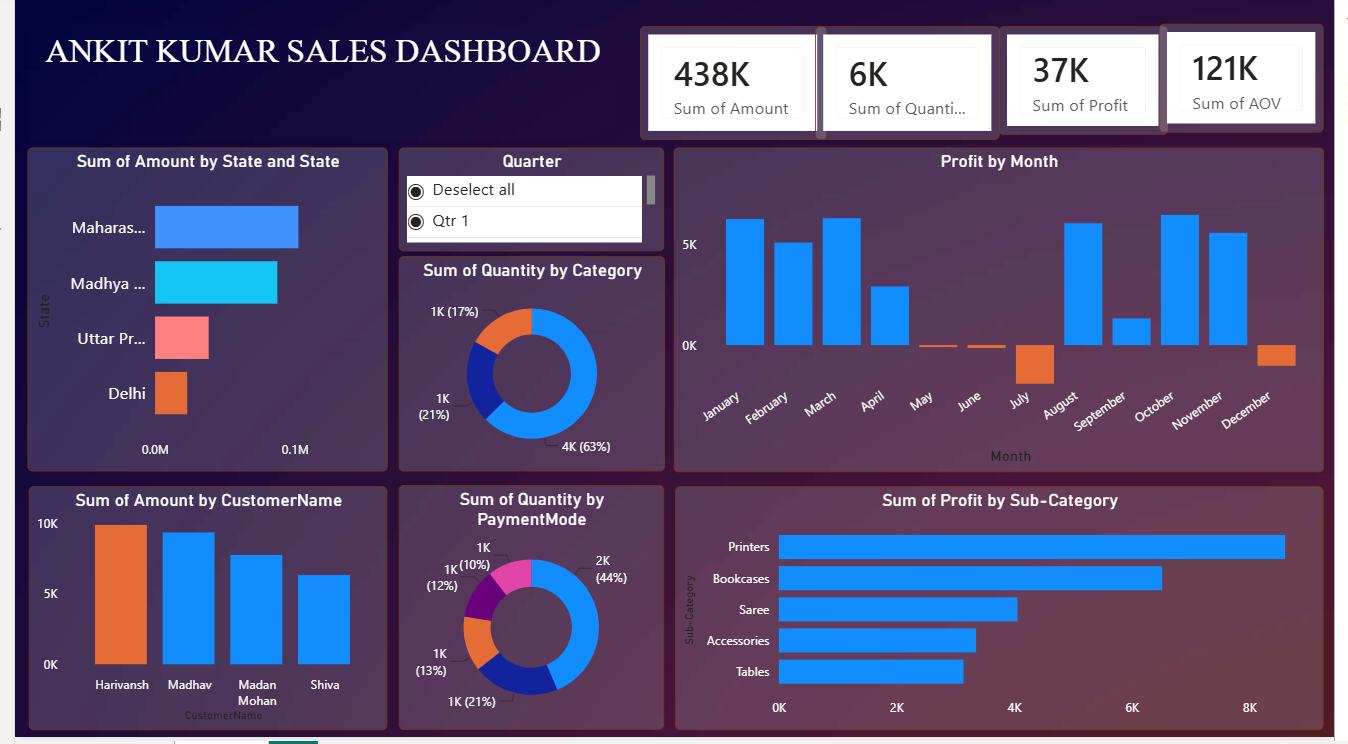

This screenshot's page, from the dashboard's own definition file:
{"tool":"powerbi","page":{"name":"Page 1","canvas":[1280,720],"ordinal":0},"visuals":[{"type":"textbox","box":[13.3,30.3,571.5,110.4],"z":0},{"type":"columnChart","title":"Profit by Month","fields":{"Y":["Sum(Details.Profit)"],"Category":["Orders.Order Date.Variation.Date Hierarchy.Month"]},"box":[639.4,148,630.9,315.5],"z":1000},{"type":"barChart","fields":{"Category":["Details.Sub-Category"],"Y":["Sum(Details.Profit)"]},"box":[640.6,476.8,629.7,236.6],"z":2000},{"type":"donutChart","fields":{"Category":["Details.Category"],"Y":["Sum(Details.Quantity)"]},"box":[372.5,253.6,258.4,208.7],"z":3000},{"type":"donutChart","fields":{"Y":["Sum(Details.Quantity)"],"Category":["Details.PaymentMode"]},"box":[372.5,475.6,257.2,237.8],"z":4000},{"type":"cardVisual","fields":{"Data":["Sum(Details.Amount)"]},"box":[606.6,30.3,180.8,110.4],"z":5000},{"type":"cardVisual","fields":{"Data":["Sum(Details.Quantity)"]},"box":[776.5,30.3,179.6,110.4],"z":6000},{"type":"cardVisual","fields":{"Data":["Sum(Details.Profit)"]},"box":[954.8,30.3,163.8,105.6],"z":7000},{"type":"cardVisual","fields":{"Data":["Sum(Details.Column)"]},"box":[1110.1,27.9,160.2,105.6],"z":8000},{"type":"barChart","fields":{"Category":["Orders.State"],"Series":["Orders.State"],"Y":["Sum(Details.Amount)"]},"box":[12.1,148,349.4,314.2],"z":9000},{"type":"columnChart","fields":{"Category":["Orders.CustomerName"],"Y":["Sum(Details.Amount)"]},"box":[13.3,476.8,348.2,236.6],"z":10000},{"type":"listSlicer","fields":{"Values":["Orders.Order Date.Variation.Date Hierarchy.Quarter"]},"box":[372.5,148,257.2,100.7],"z":11000}]}

Visuals, with their boxes in screenshot pixels (x1, y1, x2, y2), scaled from the page's 1280x720 canvas onto the 1348x744 screenshot:
textbox: Rect(14, 31, 616, 145)
"Profit by Month" columnChart: Rect(673, 153, 1338, 479)
barChart - Details.Sub-Category x Sum(Details.Profit): Rect(675, 493, 1338, 737)
donutChart - Details.Category x Sum(Details.Quantity): Rect(392, 262, 664, 478)
donutChart - Sum(Details.Quantity) x Details.PaymentMode: Rect(392, 491, 663, 737)
cardVisual - Sum(Details.Amount): Rect(639, 31, 829, 145)
cardVisual - Sum(Details.Quantity): Rect(818, 31, 1007, 145)
cardVisual - Sum(Details.Profit): Rect(1006, 31, 1178, 140)
cardVisual - Sum(Details.Column): Rect(1169, 29, 1338, 138)
barChart - Orders.State x Orders.State: Rect(13, 153, 381, 478)
columnChart - Orders.CustomerName x Sum(Details.Amount): Rect(14, 493, 381, 737)
listSlicer - Orders.Order Date.Variation.Date Hierarchy.Quarter: Rect(392, 153, 663, 257)
